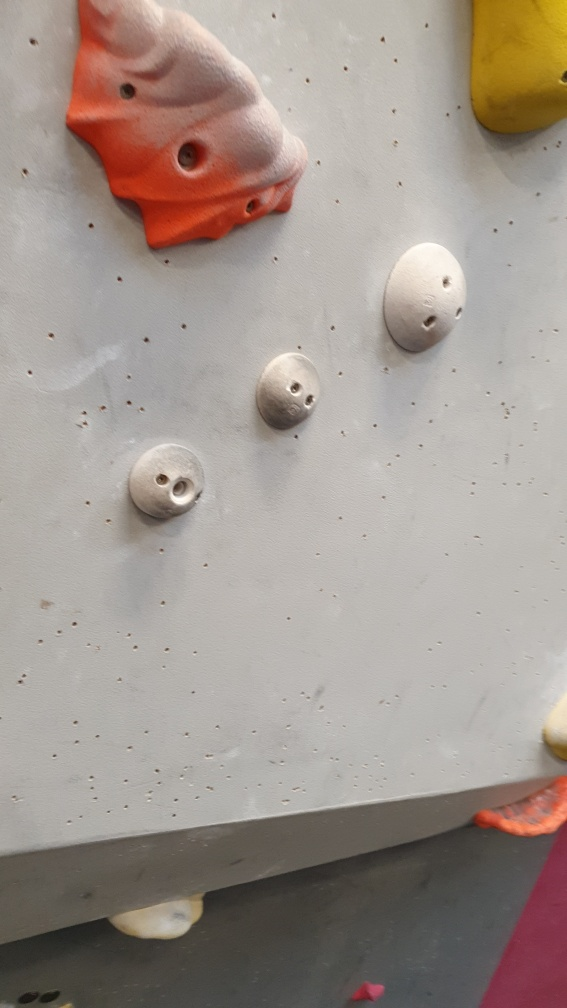Jug: (61, 1, 307, 253)
Sloper: (381, 240, 471, 358), (127, 439, 205, 523), (251, 348, 324, 434)
